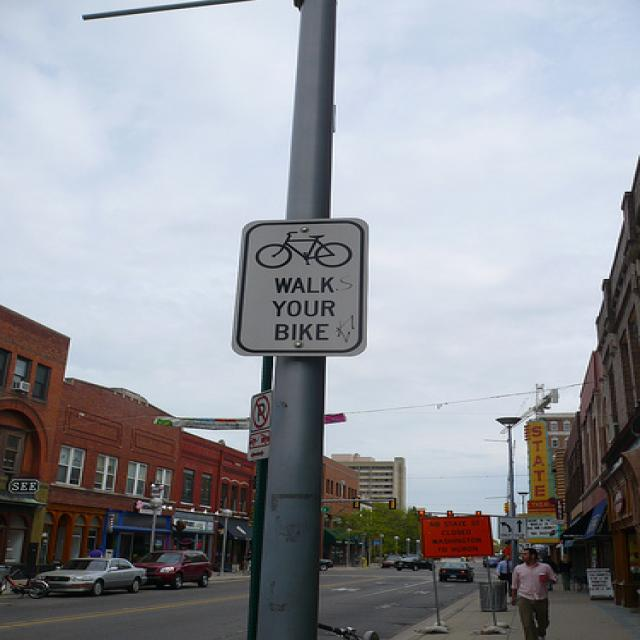motor: (0, 565, 50, 598)
